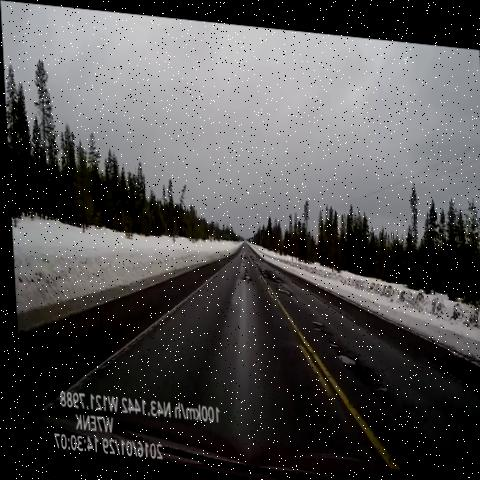pothole: (320, 331, 359, 377), (260, 260, 294, 299), (303, 304, 328, 335), (235, 260, 252, 281), (238, 242, 251, 261)
